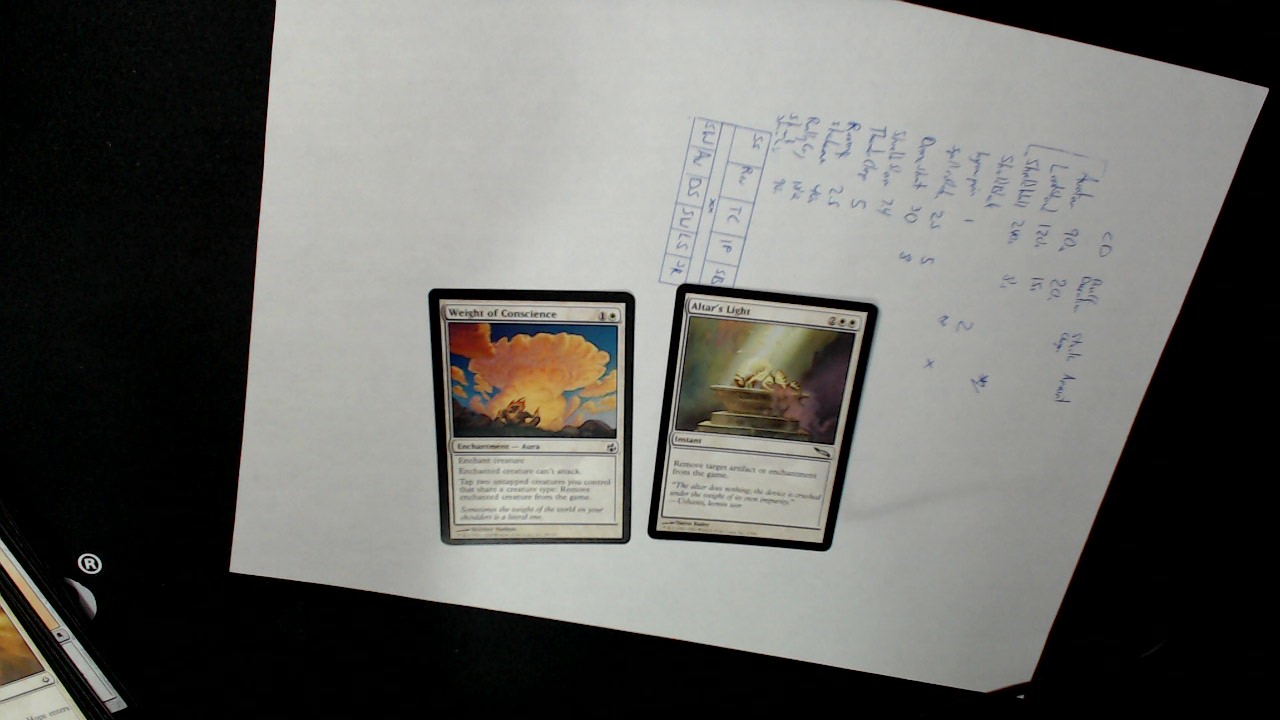MTG Card: (646, 279, 882, 555), (425, 282, 638, 551)
